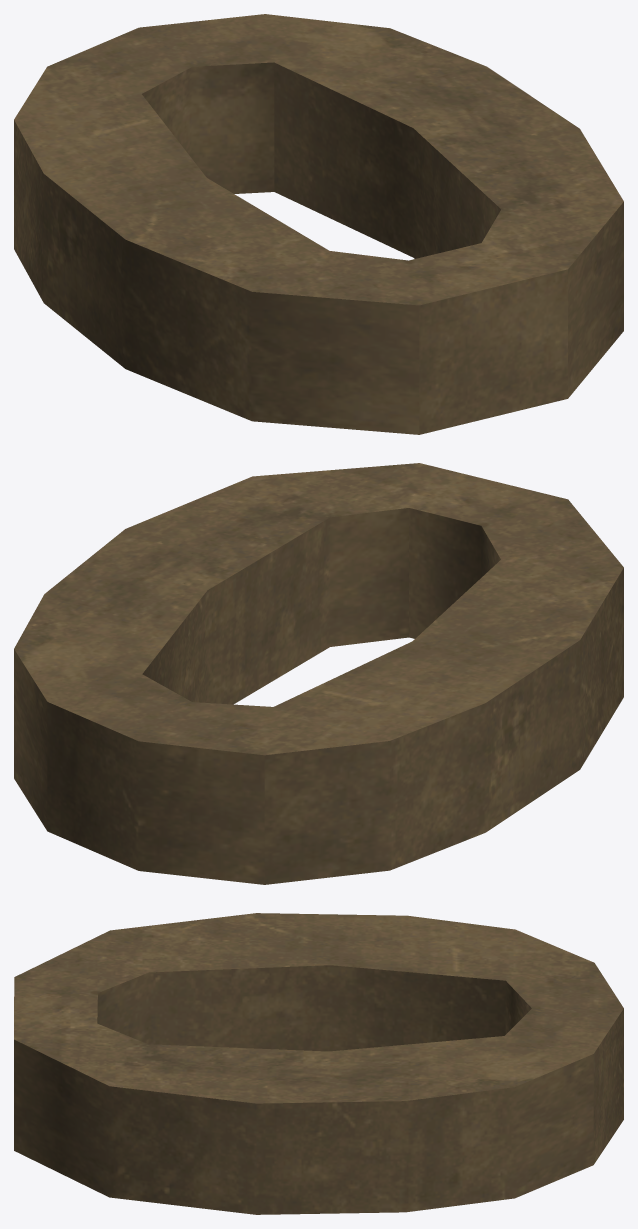
File: p6_3d_txt_levenim_frnt_gold_0_LOD1.obj
3 views of the same model, one above another, from view 1: azimuth 30°, elevation 25°; view 2: azimuth 150°, elevation 25°; view 3: azimuth 270°, elevation 25° (orthographic). The views are drawn at different scales.
Parts seen in each view (by area): view 1: dub_gold_shiny_01; view 2: dub_gold_shiny_01; view 3: dub_gold_shiny_01.
Part boxes in pixels (bbox=[...]): dub_gold_shiny_01: bbox=[14, 14, 623, 434]; dub_gold_shiny_01: bbox=[14, 463, 623, 884]; dub_gold_shiny_01: bbox=[14, 913, 623, 1214].
Bounding box in the file's own units: 70.99 × 19.34 × 96.06.
